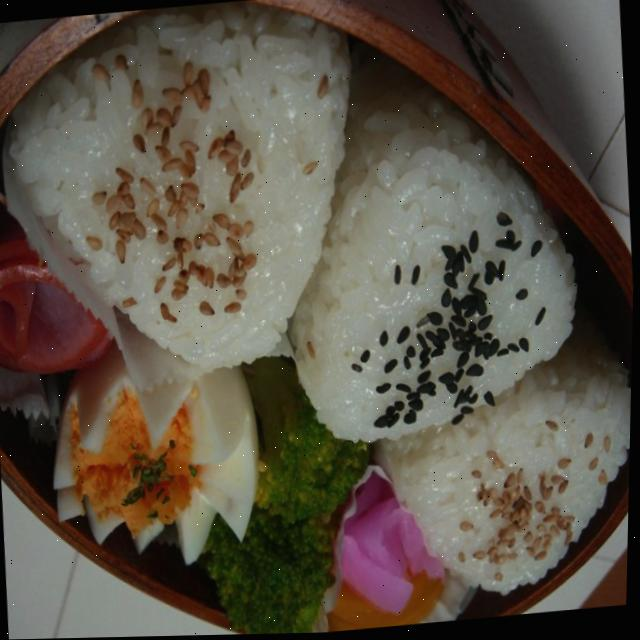米饭主食: (0, 0, 373, 400), (258, 19, 596, 460), (358, 289, 635, 618)
